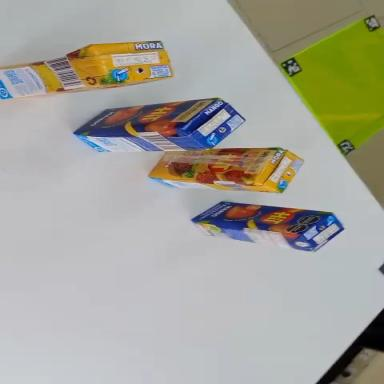HIT-MANGO: (73, 96, 246, 156), (190, 198, 345, 255)
HIT-MORA: (0, 36, 173, 100), (149, 145, 303, 193)
cara_F: (190, 198, 332, 238), (72, 98, 221, 134), (148, 147, 279, 182)
